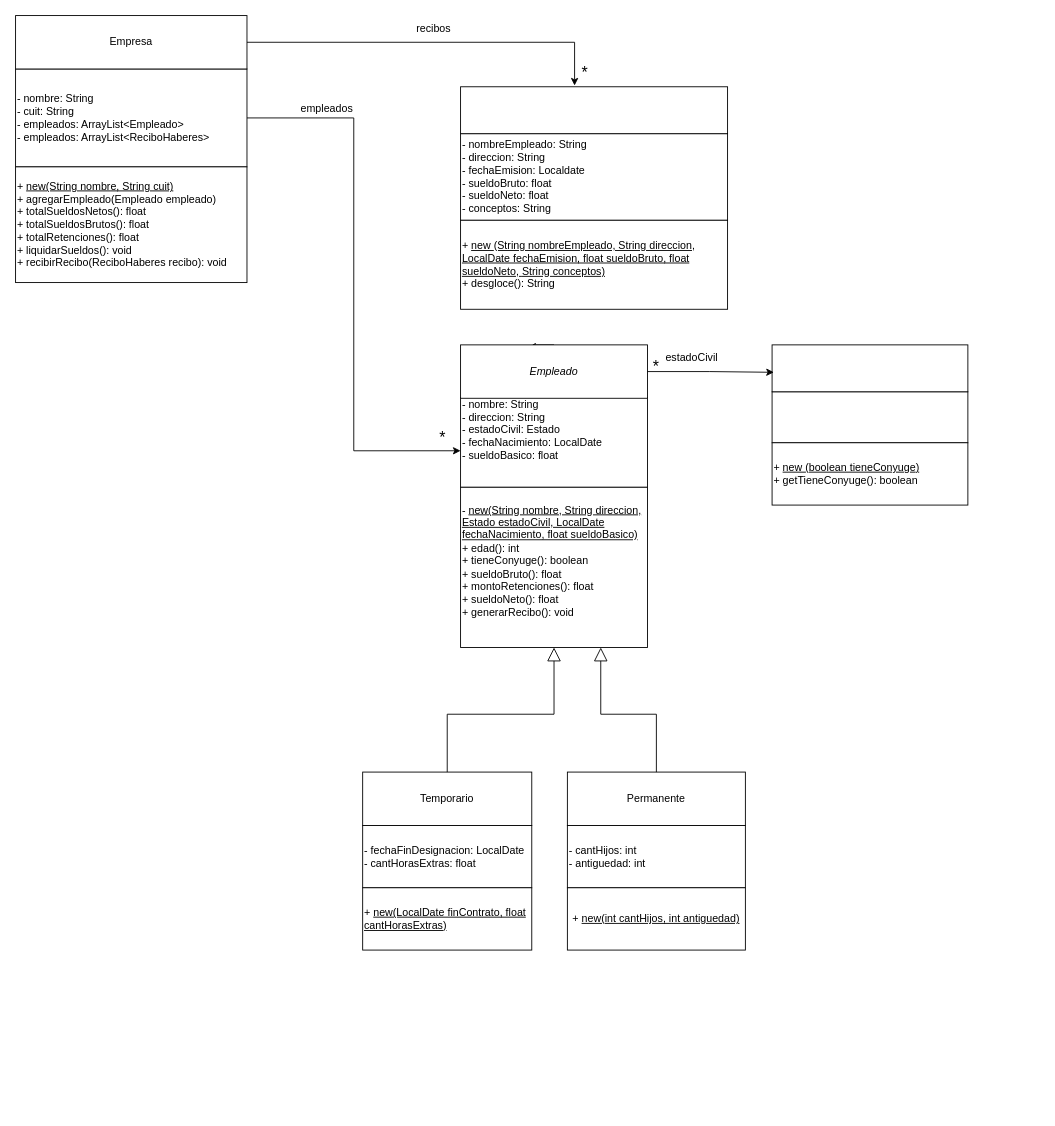
Image size: 1055x1126. Some labels were removed from this diagram. Here are the shapes that lost their labels. From the top down, the centre of each, then its label:
At [594,110]: "ReciboDeSueldo".
At [869,368]: "Estado".
At [869,417]: "- tieneConyuge: booleano".
